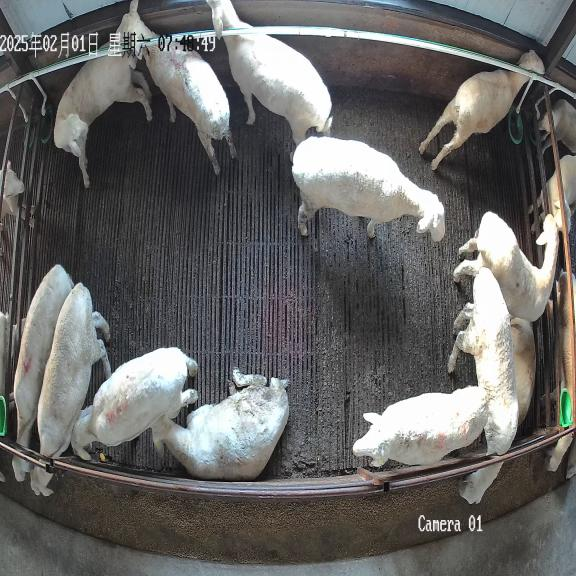eating: (448, 261, 519, 504), (31, 282, 111, 496), (11, 264, 74, 482)
lying: (152, 376, 289, 481), (511, 318, 536, 424)
stand: (117, 0, 236, 175), (206, 0, 332, 144), (292, 136, 445, 241), (54, 32, 152, 188), (419, 50, 544, 170), (71, 348, 197, 460), (453, 212, 559, 321), (353, 386, 487, 467)
